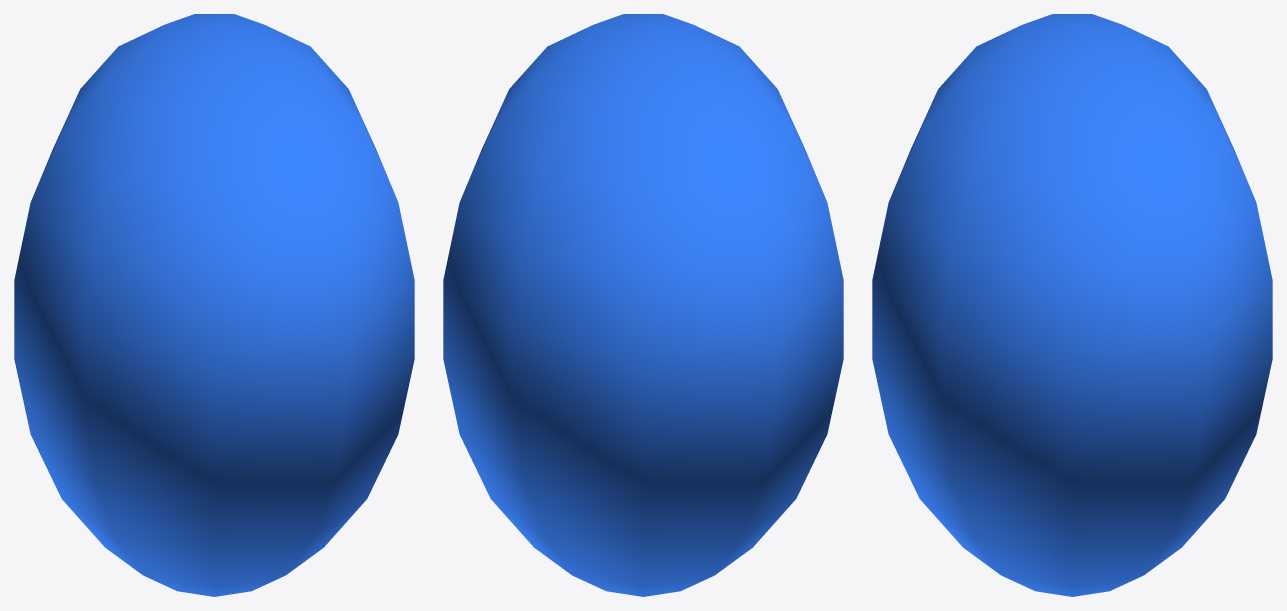
The model's file is aquasprite_stage1.obj.
3 renders of one model, left to right at view 1: azimuth 30°, elevation 25°; view 2: azimuth 150°, elevation 25°; view 3: azimuth 270°, elevation 25°, orthographic.
Bounding box in the file's own units: 1.25 × 1.95 × 1.27.
